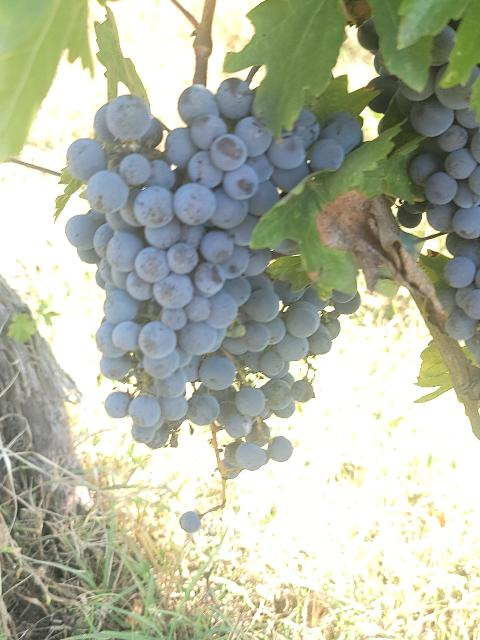grapes: (65, 78, 362, 445), (358, 18, 480, 361), (151, 280, 360, 470)
